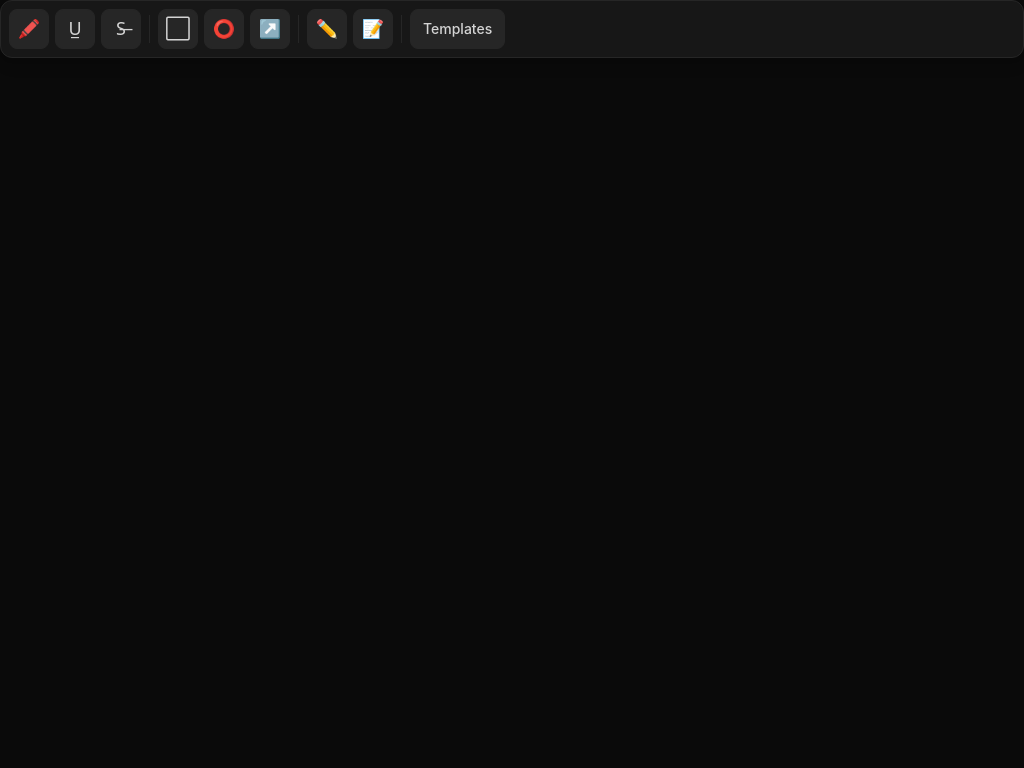
Test case: AnnotationTools › opens templates in a bounded overlay that cannot resize the PDF viewport
Click the button "Templates": (458, 29) [410,9,505,49]
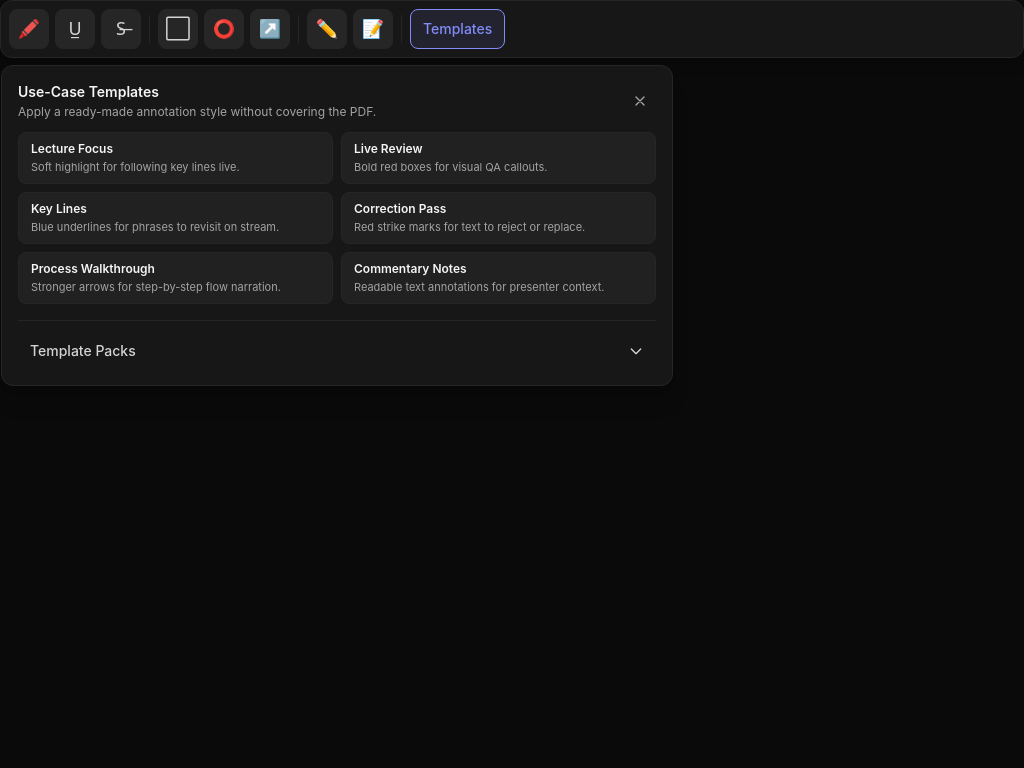
Now the dialog with test id "annotation-tools-popover" is shown, box [1,65,673,386]
Now the dialog with test id "annotation-tools-popover" shows "Lecture Focus"
Click the button "Lecture Focus Soft highlight for following key lines live.": (176, 158) [18,132,333,184]
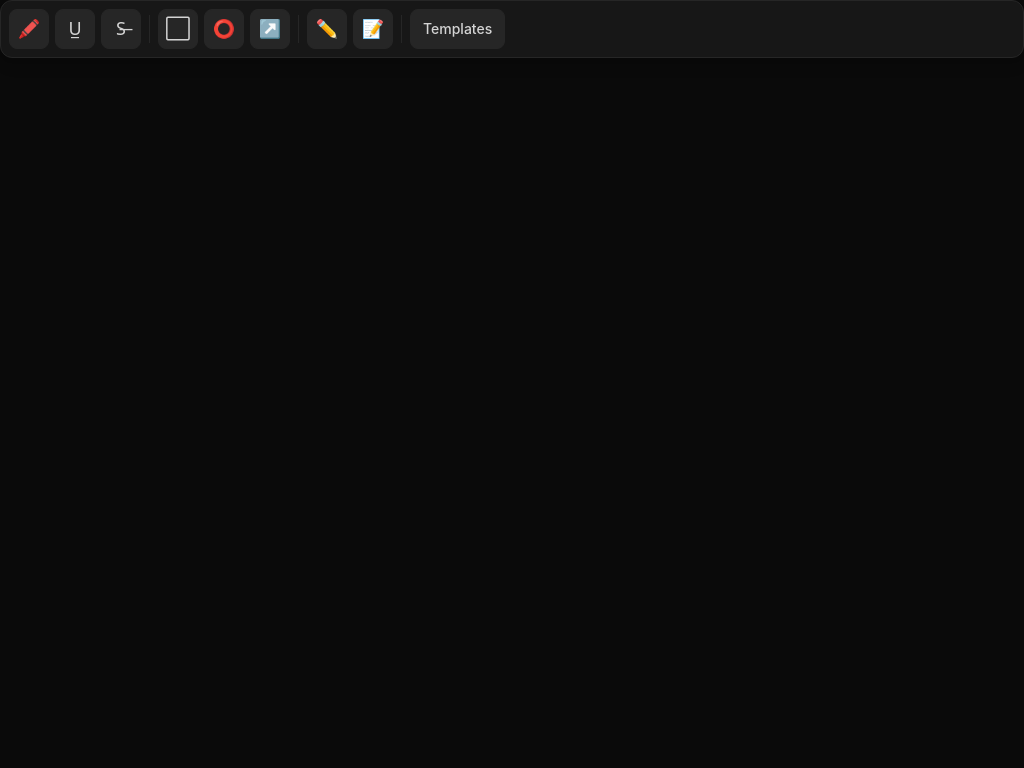
Now the dialog with test id "annotation-tools-popover" is gone
